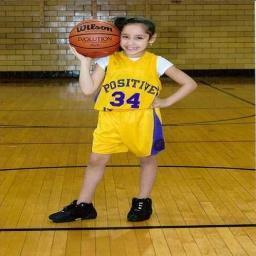ball: (68, 20, 122, 60)
human: (46, 16, 200, 224)
